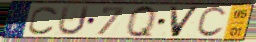7: (97, 6, 127, 37)
C: (194, 6, 229, 39), (26, 5, 60, 36)
Q: (125, 4, 157, 39)
U: (56, 5, 92, 37)
V: (168, 6, 202, 39)
